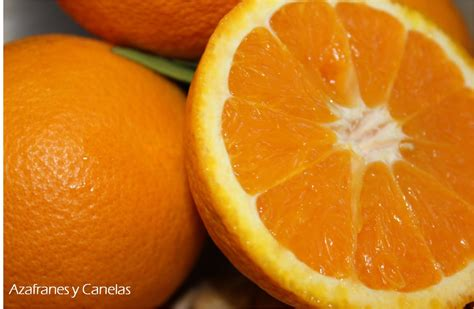orange: (1, 35, 209, 309)
